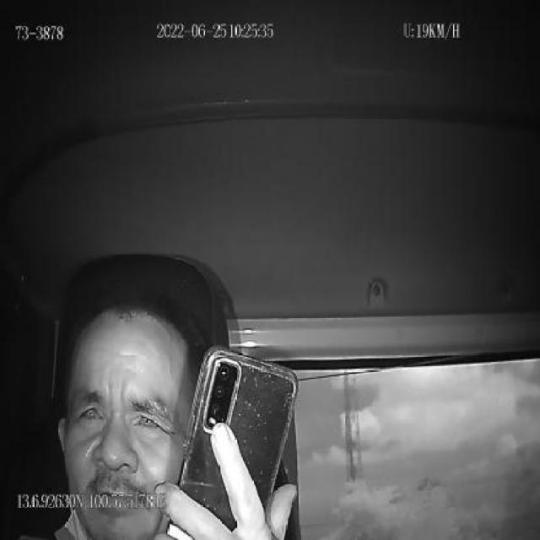phone: (171, 342, 298, 540)
